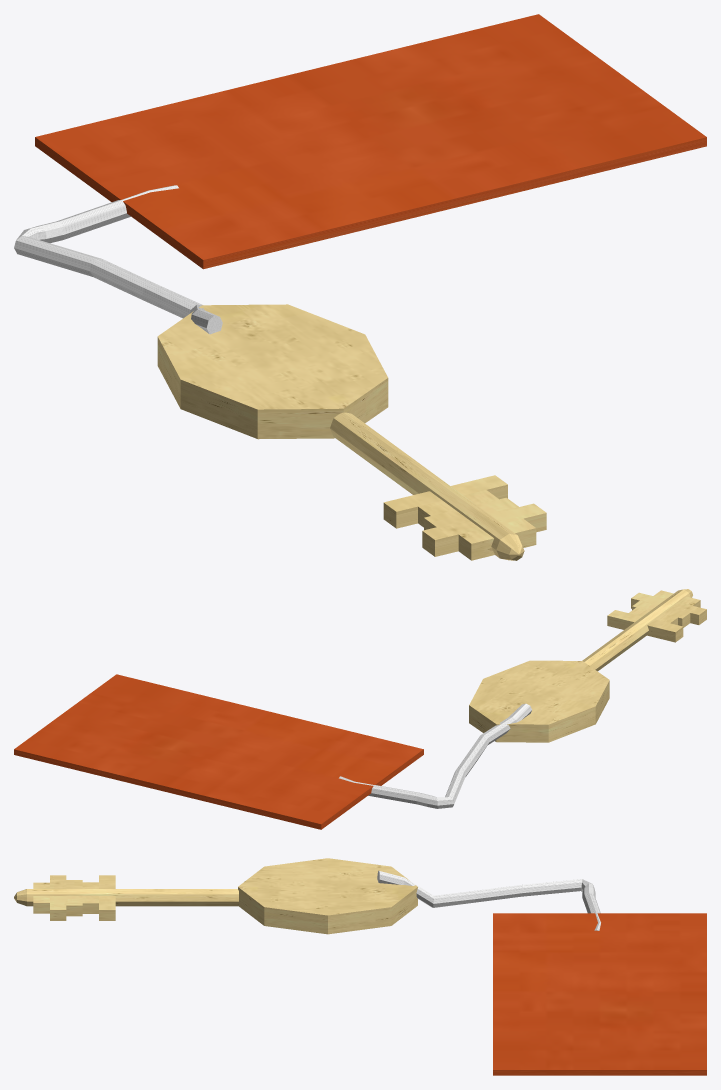
Rendered from Oval_keys.fbx.
The picture shows the model from 3 angles, top to bottom: view 1: azimuth 30°, elevation 25°; view 2: azimuth 150°, elevation 25°; view 3: azimuth 270°, elevation 25°; orthographic projection. The views are drawn at different scales.
Parts seen in each view (by area): view 1: Cube.002, Cylinder.003, Cylinder.001; view 2: Cube.002, Cylinder.003, Cylinder.001; view 3: Cube.002, Cylinder.003, Cylinder.001.
Boxes of the visible parts, <box> form: Cube.002: <box>35,14,706,269</box>; Cylinder.003: <box>157,304,546,560</box>; Cylinder.001: <box>14,185,222,334</box>; Cube.002: <box>14,674,423,829</box>; Cylinder.003: <box>469,589,706,742</box>; Cylinder.001: <box>339,703,531,808</box>; Cube.002: <box>493,913,706,1075</box>; Cylinder.003: <box>14,858,417,934</box>; Cylinder.001: <box>377,870,600,930</box>.
Size of the model in its own units: 17.62 by 1.22 by 25.33.
3 materials, 3 textured.
